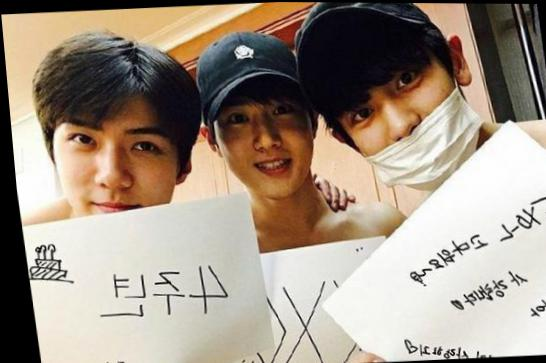NONE: (49, 108, 197, 247), (213, 94, 318, 194)
WRONG: (311, 27, 482, 188)
